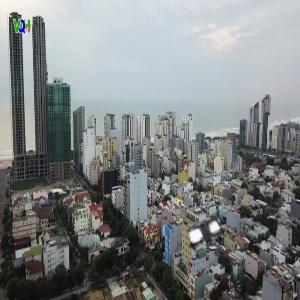drone: (174, 203, 241, 270)
